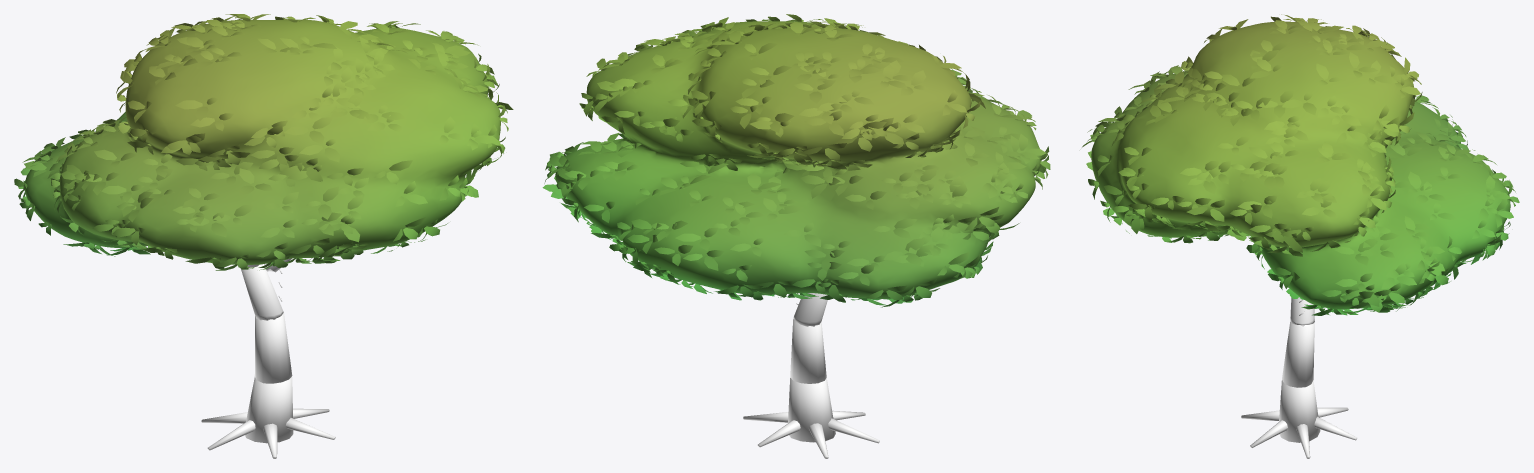
Rendered from beech_canopy_3.glb.
The picture shows the model from 3 angles, left to right: view 1: azimuth 30°, elevation 25°; view 2: azimuth 150°, elevation 25°; view 3: azimuth 270°, elevation 25°; orthographic projection. The views are drawn at different scales.
Parts seen in each view (by area): view 1: beech_canopy_3_Leaves, beech_canopy_3_Bark, beech_canopy_3_UpperBranches; view 2: beech_canopy_3_Leaves, beech_canopy_3_Bark, beech_canopy_3_UpperBranches; view 3: beech_canopy_3_Leaves, beech_canopy_3_Bark, beech_canopy_3_UpperBranches.
Part boxes in pixels (bbox=[...]): beech_canopy_3_Leaves: bbox=[14, 14, 513, 270]; beech_canopy_3_Bark: bbox=[201, 311, 335, 458]; beech_canopy_3_UpperBranches: bbox=[241, 258, 292, 316]; beech_canopy_3_Leaves: bbox=[542, 14, 1050, 307]; beech_canopy_3_Bark: bbox=[743, 316, 879, 458]; beech_canopy_3_UpperBranches: bbox=[794, 293, 827, 321]; beech_canopy_3_Leaves: bbox=[1082, 14, 1519, 315]; beech_canopy_3_Bark: bbox=[1241, 317, 1356, 458]; beech_canopy_3_UpperBranches: bbox=[1290, 297, 1314, 323].
Size of the model in its own units: 15.6 by 13.71 by 14.29.
